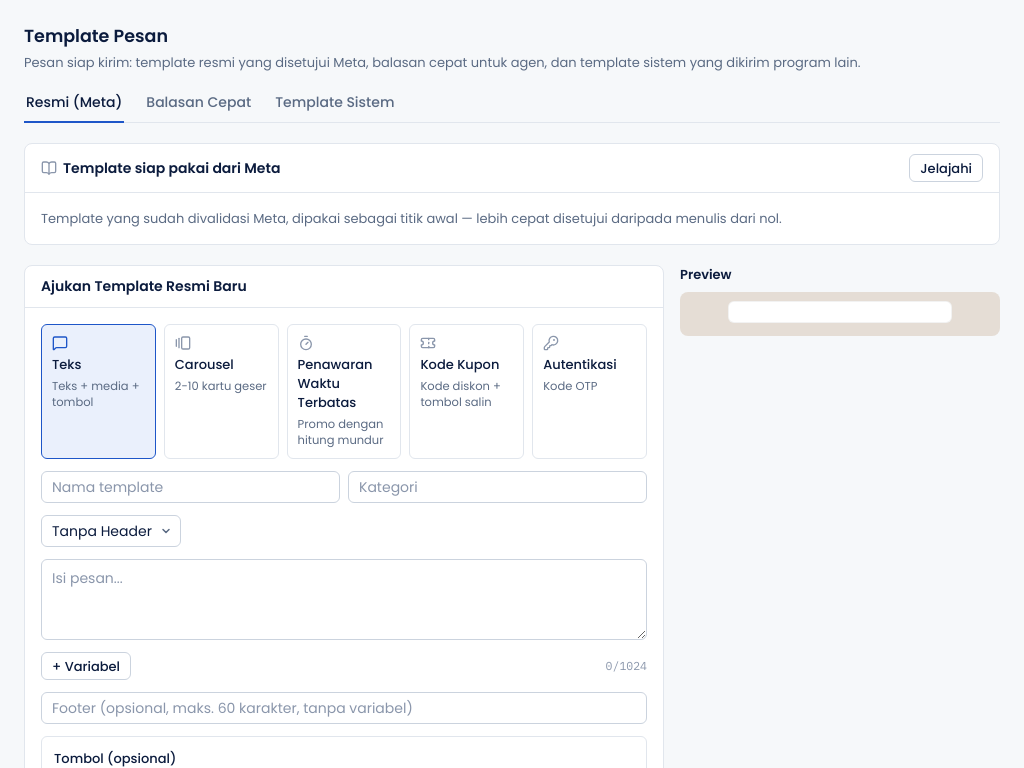
TemplatesPage — header, footer, and buttons (TEXT/AUTH) › shows a media URL input when the header type is IMAGE
expect the element named "Format template" is shown: met, box [41, 324, 647, 459]
Select "URL Gambar" in the dropdown named "Tipe header" at x=111, y=531, box [41, 515, 181, 547]
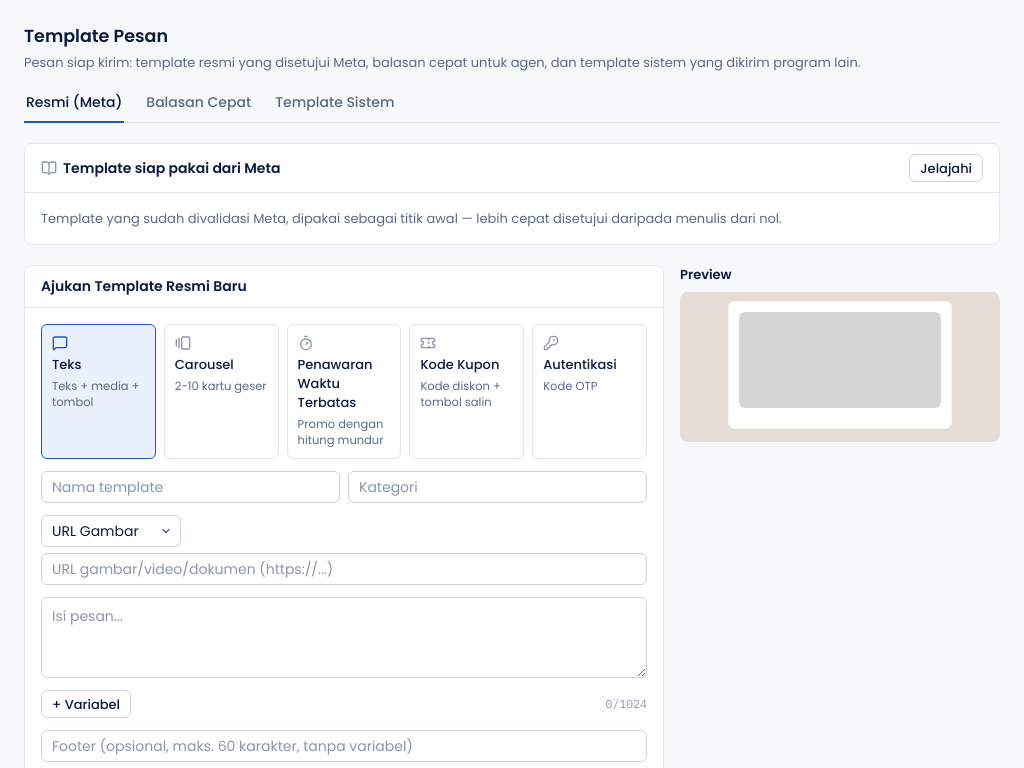
expect the field named "URL media header" is shown: met, box [41, 553, 647, 585]
